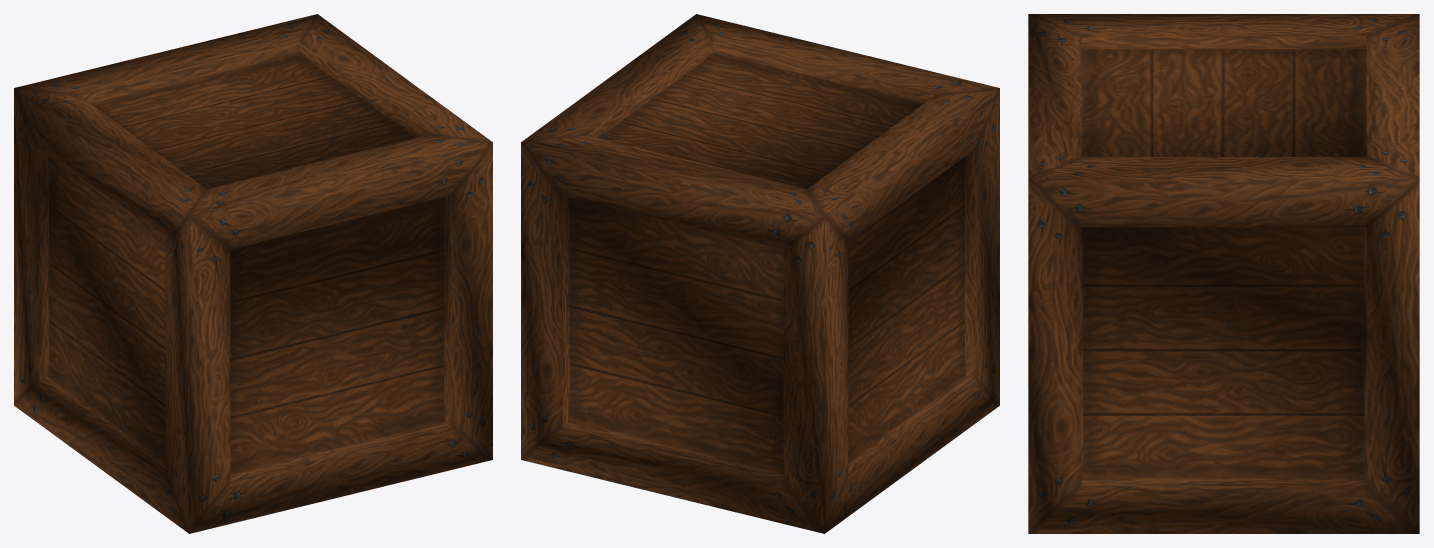
The model's file is crate_01.fbx.
3 views of the same model, side by side, from view 1: azimuth 30°, elevation 25°; view 2: azimuth 150°, elevation 25°; view 3: azimuth 270°, elevation 25° (orthographic). The views are drawn at different scales.
Visible parts, largest first — view 1: crate_01_001; view 2: crate_01_001; view 3: crate_01_001.
Part boxes in pixels (x1,y1,x2,y2): crate_01_001: (14, 14, 492, 533); crate_01_001: (521, 14, 999, 533); crate_01_001: (1028, 14, 1419, 533).
Size of the model in its own units: 0.5 by 0.5 by 0.5.
